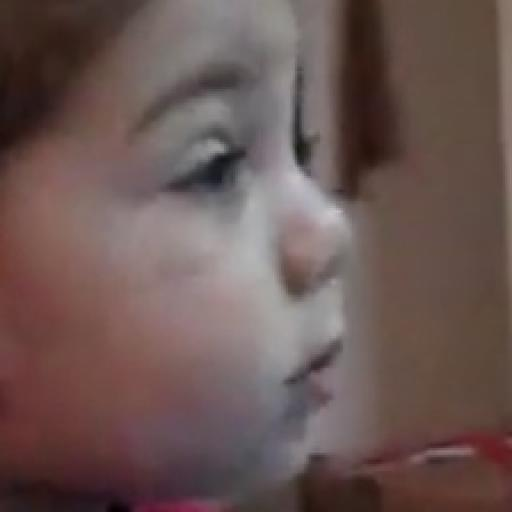Autism: (40, 32, 368, 462)
